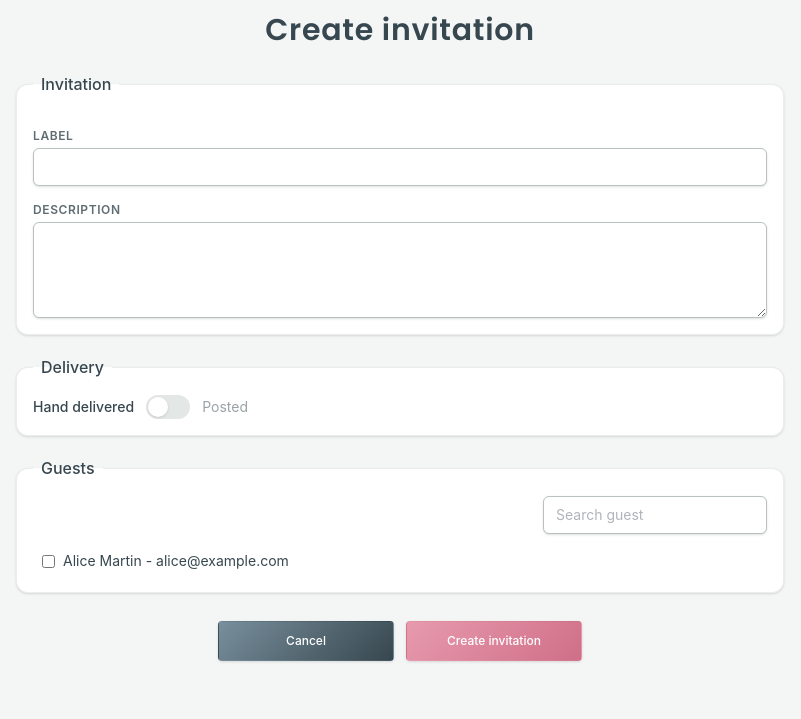
Test case: CreateInvitationView › shows clear conflict error when a selected guest has been assigned concurrently
Step 1. Type "Family table" into the field with test id "invitation-label-input" → x=400, y=167, box [33,148,767,186]
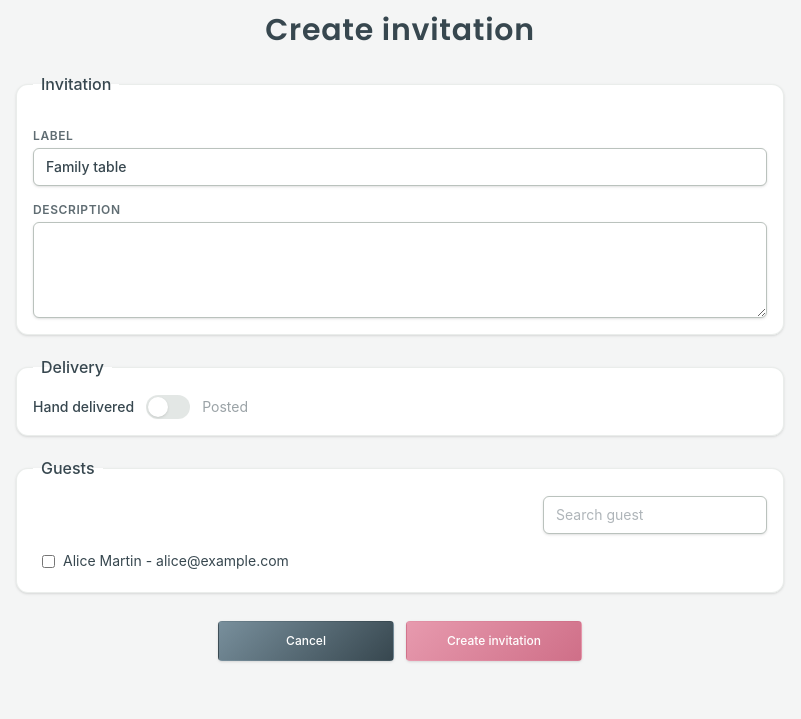
Step 2. Click the checkbox with test id "guest-checkbox" → x=48, y=561, box [42,554,55,568]
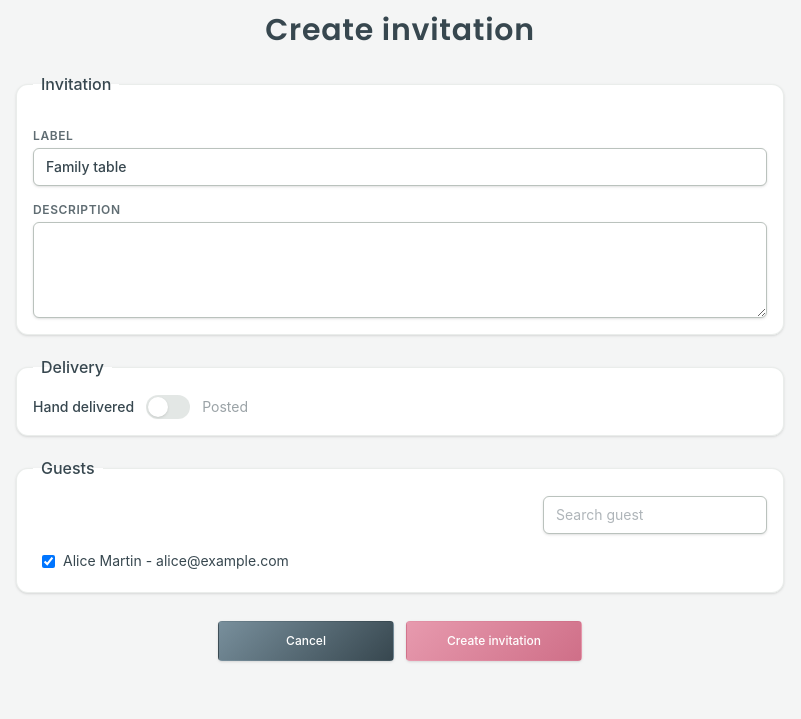
Step 3. Submit the form
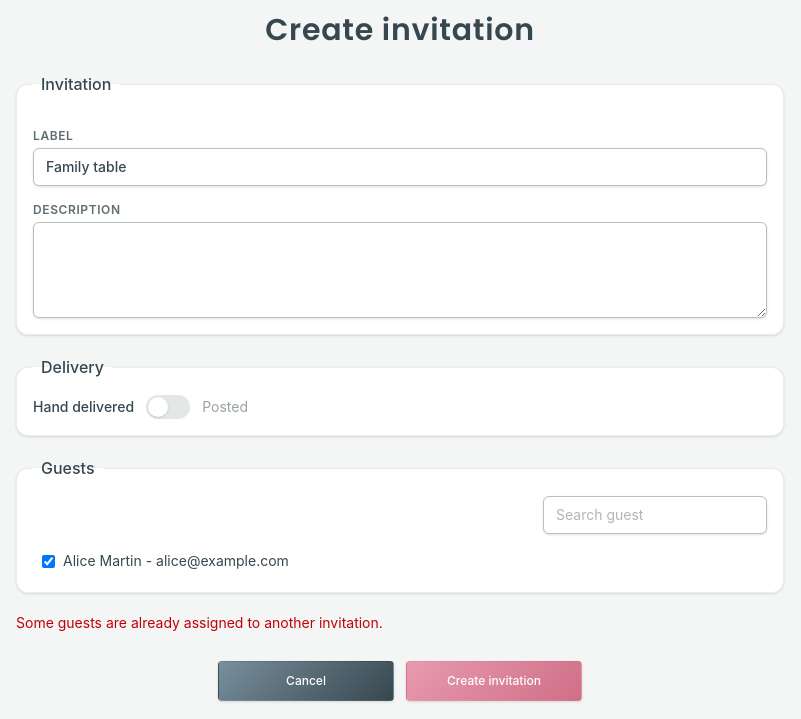
Expected: the text with test id "invitation-submit-error" reads "Some guests are already assigned to another invitation.", [16,614,383,631]
